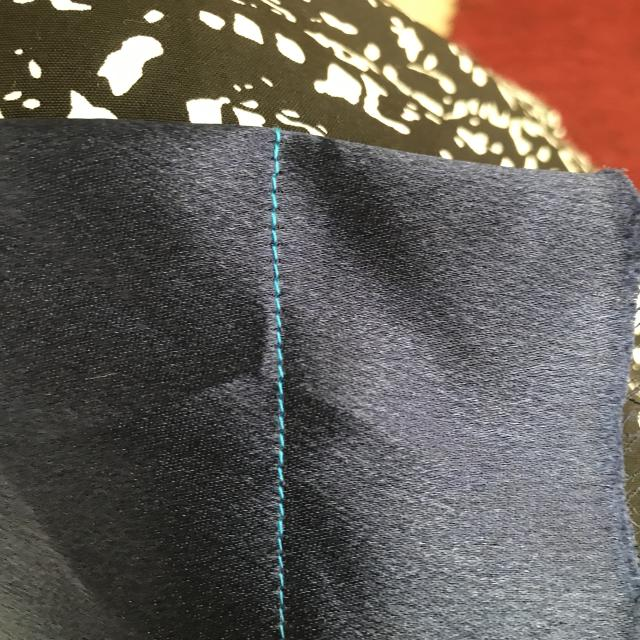good: (260, 194, 301, 396), (271, 417, 295, 593)
